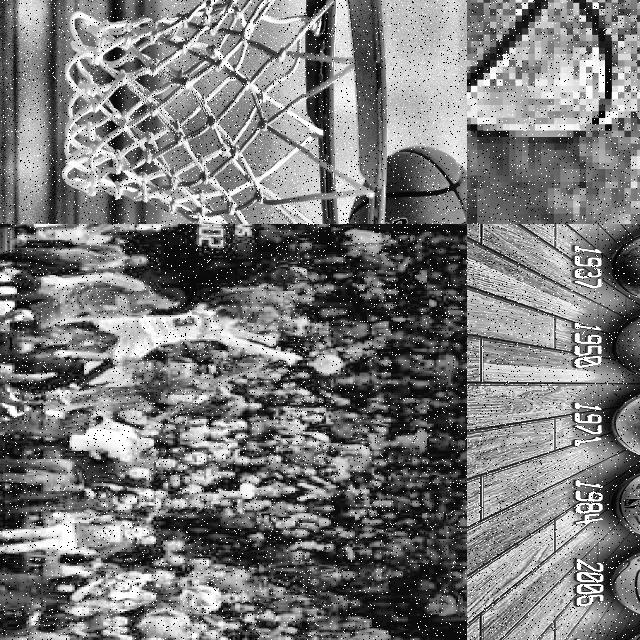Basketball: (384, 146, 467, 224), (311, 355, 340, 374), (348, 198, 367, 224)
